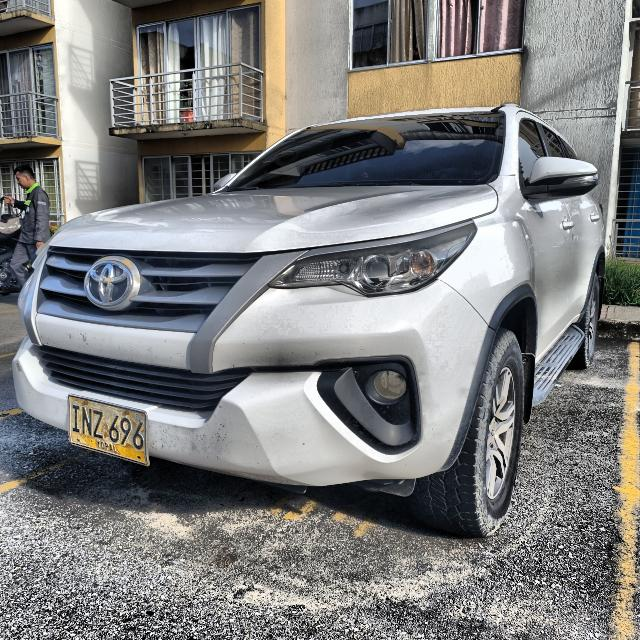plate: (69, 395, 148, 464)
